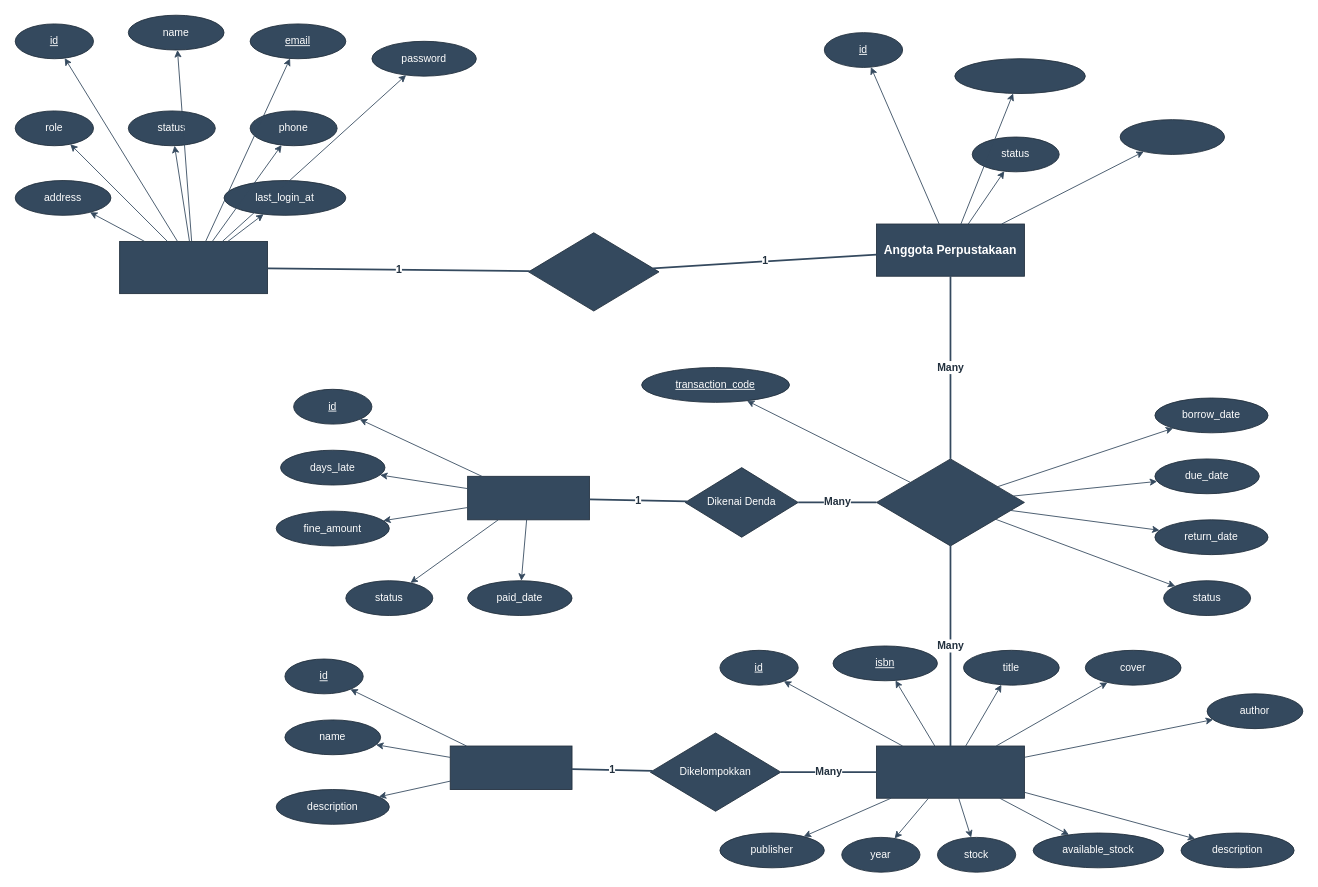
Some shapes in this 1318 by 887 pixel diagram are drawn without their labels. Here are the shapes that lost their labels. From the top down, the centre of each, then its label:
the point at 1019,76: member_code
the point at 1172,136: join_date
the point at 193,267: Pengguna
the point at 593,271: Mendaftar
the point at 528,497: Denda
the point at 950,502: Meminjam
the point at 510,767: Kategori
the point at 950,771: Buku
